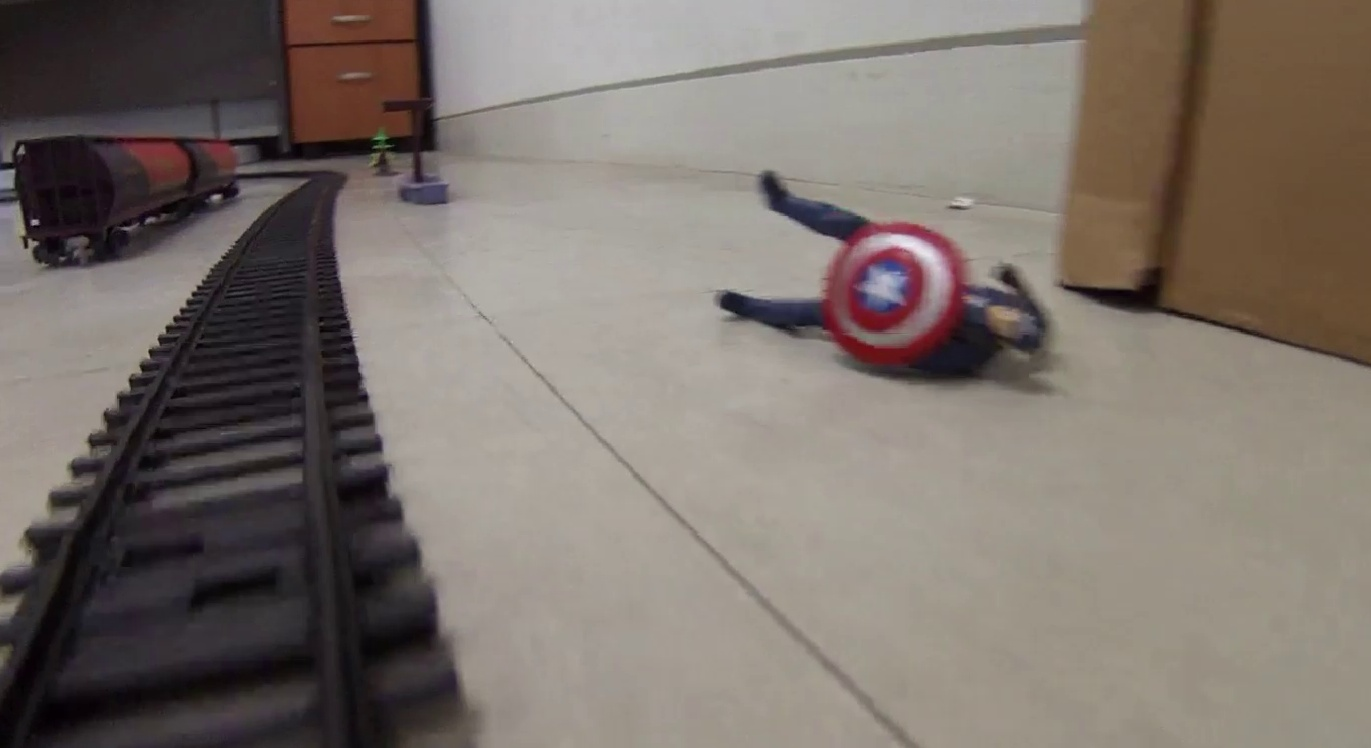people: (713, 168, 1045, 385)
